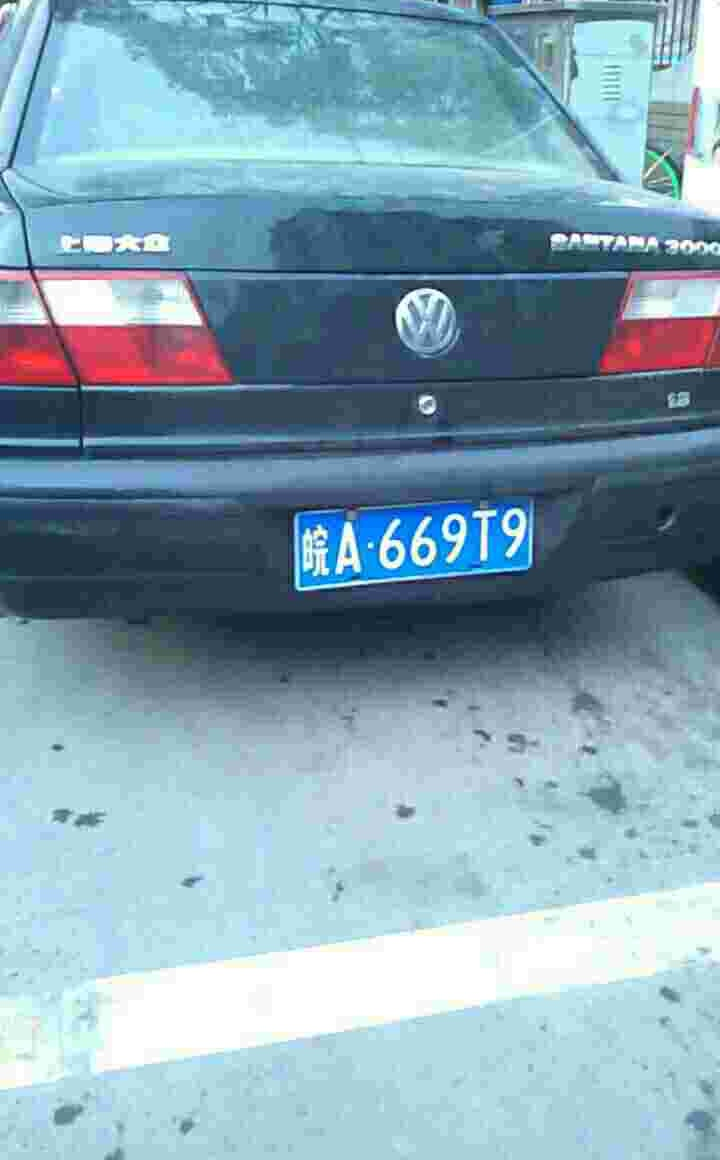car: (292, 514, 532, 575)
